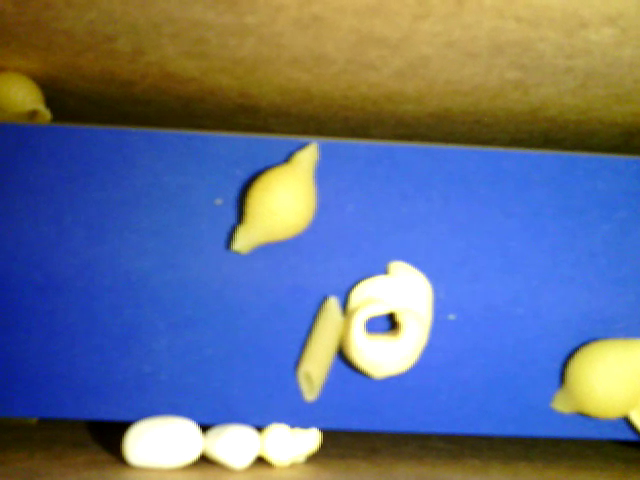penne: (293, 292, 341, 406)
shell: (230, 140, 323, 257), (550, 336, 636, 418), (1, 66, 53, 125)
tortellini: (339, 257, 436, 384)
